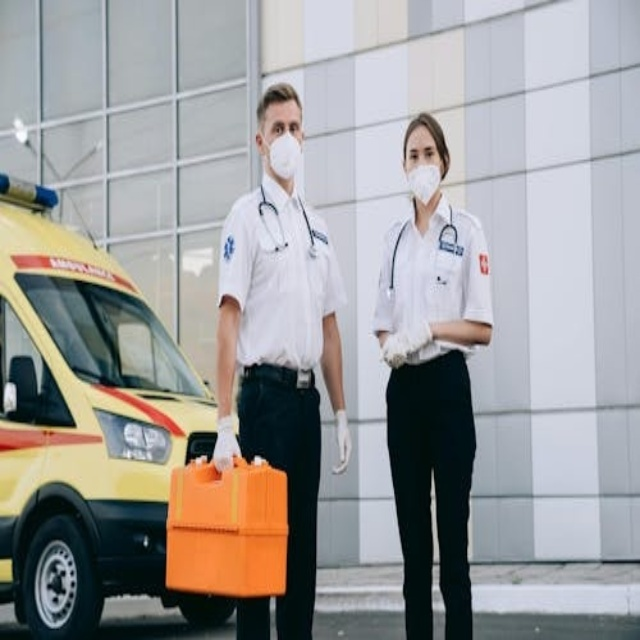Guantes: (213, 414, 241, 473), (380, 328, 413, 369), (332, 410, 352, 476)
Mascara: (266, 132, 302, 181), (406, 163, 442, 206)
Sin_gafas: (266, 113, 302, 136), (407, 140, 438, 160)
